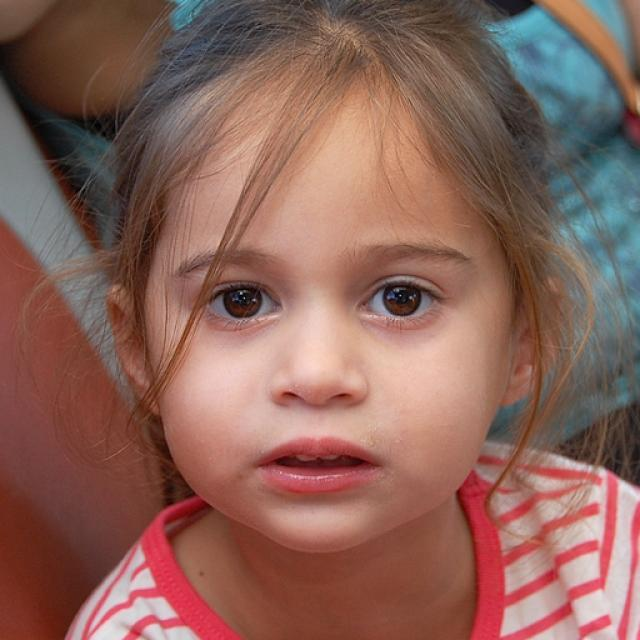neutral: (142, 73, 516, 554)
